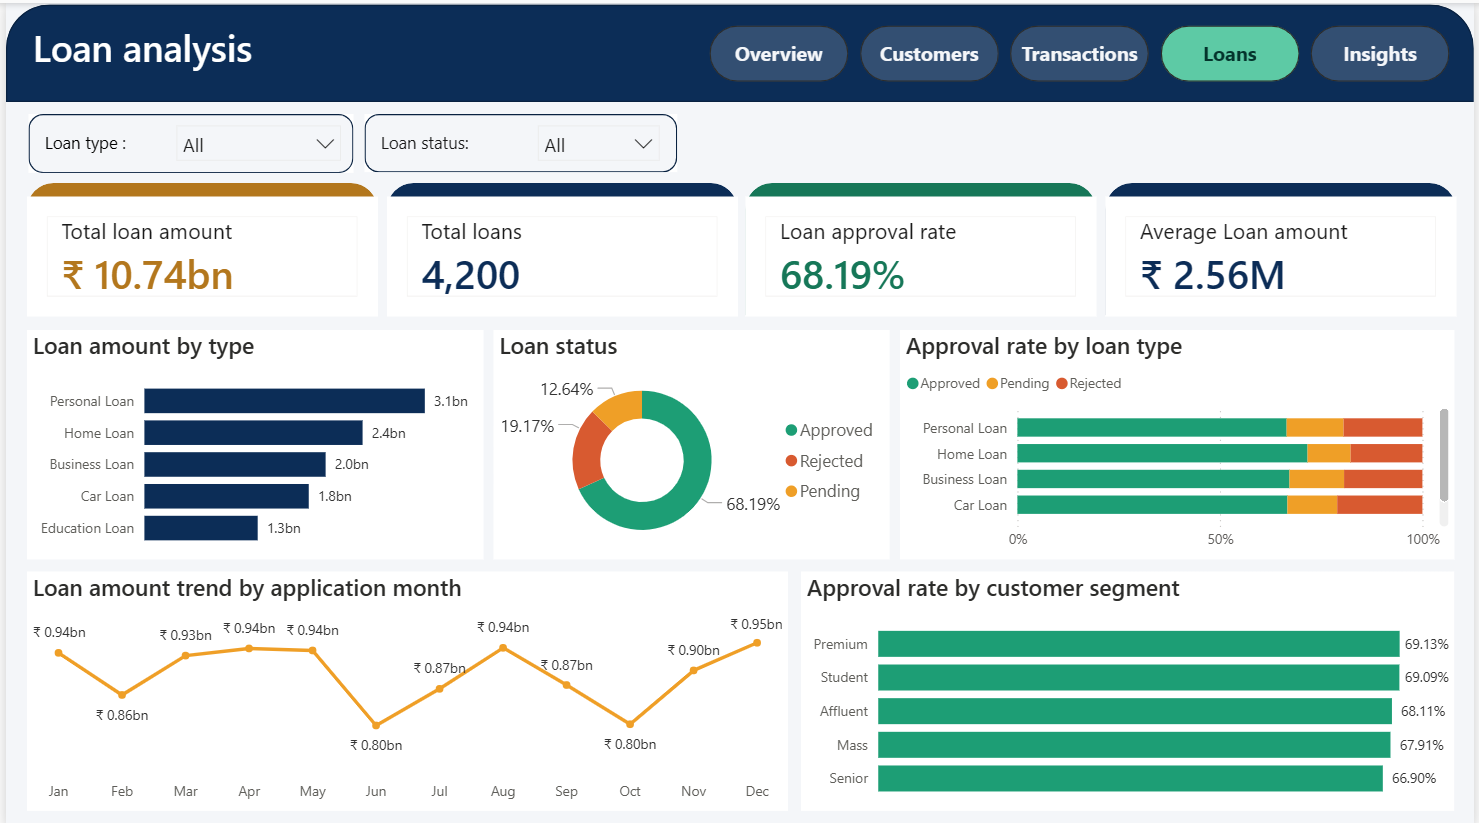

The dashboard page shown, as its layout file describes it:
{"tool":"powerbi","page":{"name":"Loans","canvas":[1280,720],"ordinal":3},"visuals":[{"type":"shape","box":[0,1.5,1279.5,85],"z":0},{"type":"textbox","box":[18.2,12.1,569.3,74.2],"z":1000},{"type":"shape","box":[18.8,156.3,305.5,115.1],"z":1000,"group":"g4"},{"type":"pageNavigator","box":[613.3,19.7,649.6,50],"z":2000},{"type":"group","id":"g1","title":"Group 1","box":[19.7,96.4,283.2,51.5],"z":3000,"group":"g3"},{"type":"shape","box":[331.8,156.3,305.5,115.1],"z":3000,"group":"g5"},{"type":"shape","box":[958,156.8,305.5,115.1],"z":3000,"group":"g7"},{"type":"barChart","title":"Loan amount by type","fields":{"Category":["Loans.Loan_Type"],"Y":["Sum(Loans.Loan_Amount)"]},"box":[18.2,284.7,398.2,199.9],"z":3000},{"type":"group","id":"g2","title":"Group 1","box":[312.5,96.4,272.6,51.5],"z":4000,"group":"g3"},{"type":"cardVisual","title":"Total Customers","fields":{"Data":["_Measures.Total Loan amount"]},"box":[18.2,168,305.9,104.5],"z":4000,"group":"g4"},{"type":"donutChart","title":"Loan status","fields":{"Category":["Loans.Loan_Status"],"Y":["_Measures.Total loans"]},"box":[425.5,284.7,345.2,199.9],"z":4000},{"type":"shape","box":[644.8,156.3,305.5,115.1],"z":5000,"group":"g6"},{"type":"cardVisual","title":"Total Customers","fields":{"Data":["_Measures.Total loans"]},"box":[331.6,168,305.9,104.5],"z":5000,"group":"g5"},{"type":"cardVisual","title":"Total Customers","fields":{"Data":["_Measures.Average Loan amount"]},"box":[957.8,168.5,305.9,104.5],"z":5000,"group":"g7"},{"type":"hundredPercentStackedBarChart","title":"Approval rate by loan type","fields":{"Category":["Loans.Loan_Type"],"Series":["Loans.Loan_Status"],"Y":["_Measures.Total loans"]},"box":[779.8,284.7,483,199.9],"z":5000},{"type":"shape","box":[19.7,96.4,283.2,51.5],"z":5500,"group":"g1"},{"type":"shape","box":[312.5,96.9,272.6,50.9],"z":5500,"group":"g2"},{"type":"slicer","fields":{"Values":["Loans.Loan_Status"]},"box":[453.1,96.4,125.9,47.9],"z":6000,"group":"g2"},{"type":"slicer","fields":{"Values":["Loans.Loan_Type"]},"box":[139.3,96.5,163.5,48.5],"z":6000,"group":"g1"},{"type":"cardVisual","title":"Total Customers","fields":{"Data":["_Measures.Loan Approval rate"]},"box":[645,168,305.9,104.5],"z":6000,"group":"g6"},{"type":"lineChart","title":"Loan amount trend by application month","fields":{"Category":["Date.Month"],"Y":["_Measures.Total Loan amount"]},"box":[18.2,495.1,663.2,209],"z":6000},{"type":"barChart","title":"Approval rate by customer segment","fields":{"Y":["_Measures.Loan Approval rate"],"Category":["Customers.Customer_Segment"]},"box":[693.5,495.1,569.3,209],"z":7000},{"type":"group","id":"g3","title":"Group 3","box":[19.7,96.4,565.4,51.5],"z":8000},{"type":"textbox","box":[322.1,105,125.1,31.2],"z":8000,"group":"g2"},{"type":"textbox","box":[28.8,105.5,107.5,39.4],"z":8000,"group":"g1"},{"type":"group","id":"g4","title":"Group 2","box":[18.2,156.3,306.1,116.2],"z":9000},{"type":"group","id":"g5","title":"Group 4","box":[331.6,156.3,305.9,116.2],"z":10000},{"type":"group","id":"g6","title":"Group 5","box":[644.8,156.3,306,116.2],"z":11000},{"type":"group","id":"g7","title":"Group 4","box":[957.8,156.8,304.9,115],"z":12001}]}

Visuals, with their boxes in screenshot pixels (x1, y1, x2, y2), scaled from the page's 1280x720 canvas onto the 1479x823 screenshot:
shape: 0,2,1478,99
textbox: 21,14,679,99
shape: 22,179,375,310
pageNavigator: 709,23,1459,80
"Group 1" group: 23,110,350,169
shape: 383,179,736,310
shape: 1107,179,1460,311
"Loan amount by type" barChart: 21,325,481,554
"Group 1" group: 361,110,676,169
"Total Customers" cardVisual: 21,192,374,311
"Loan status" donutChart: 492,325,891,554
shape: 745,179,1098,310
"Total Customers" cardVisual: 383,192,737,311
"Total Customers" cardVisual: 1107,193,1460,312
"Approval rate by loan type" hundredPercentStackedBarChart: 901,325,1459,554
shape: 23,110,350,169
shape: 361,111,676,169
slicer - Loans.Loan_Status: 524,110,669,165
slicer - Loans.Loan_Type: 161,110,350,166
"Total Customers" cardVisual: 745,192,1099,311
"Loan amount trend by application month" lineChart: 21,566,787,805
"Approval rate by customer segment" barChart: 801,566,1459,805
"Group 3" group: 23,110,676,169
textbox: 372,120,517,156
textbox: 33,121,157,166
"Group 2" group: 21,179,375,311
"Group 4" group: 383,179,737,311
"Group 5" group: 745,179,1099,311
"Group 4" group: 1107,179,1459,311
